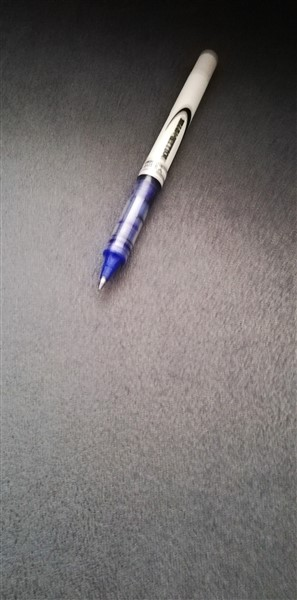pilot kalem: (88, 43, 225, 298)
